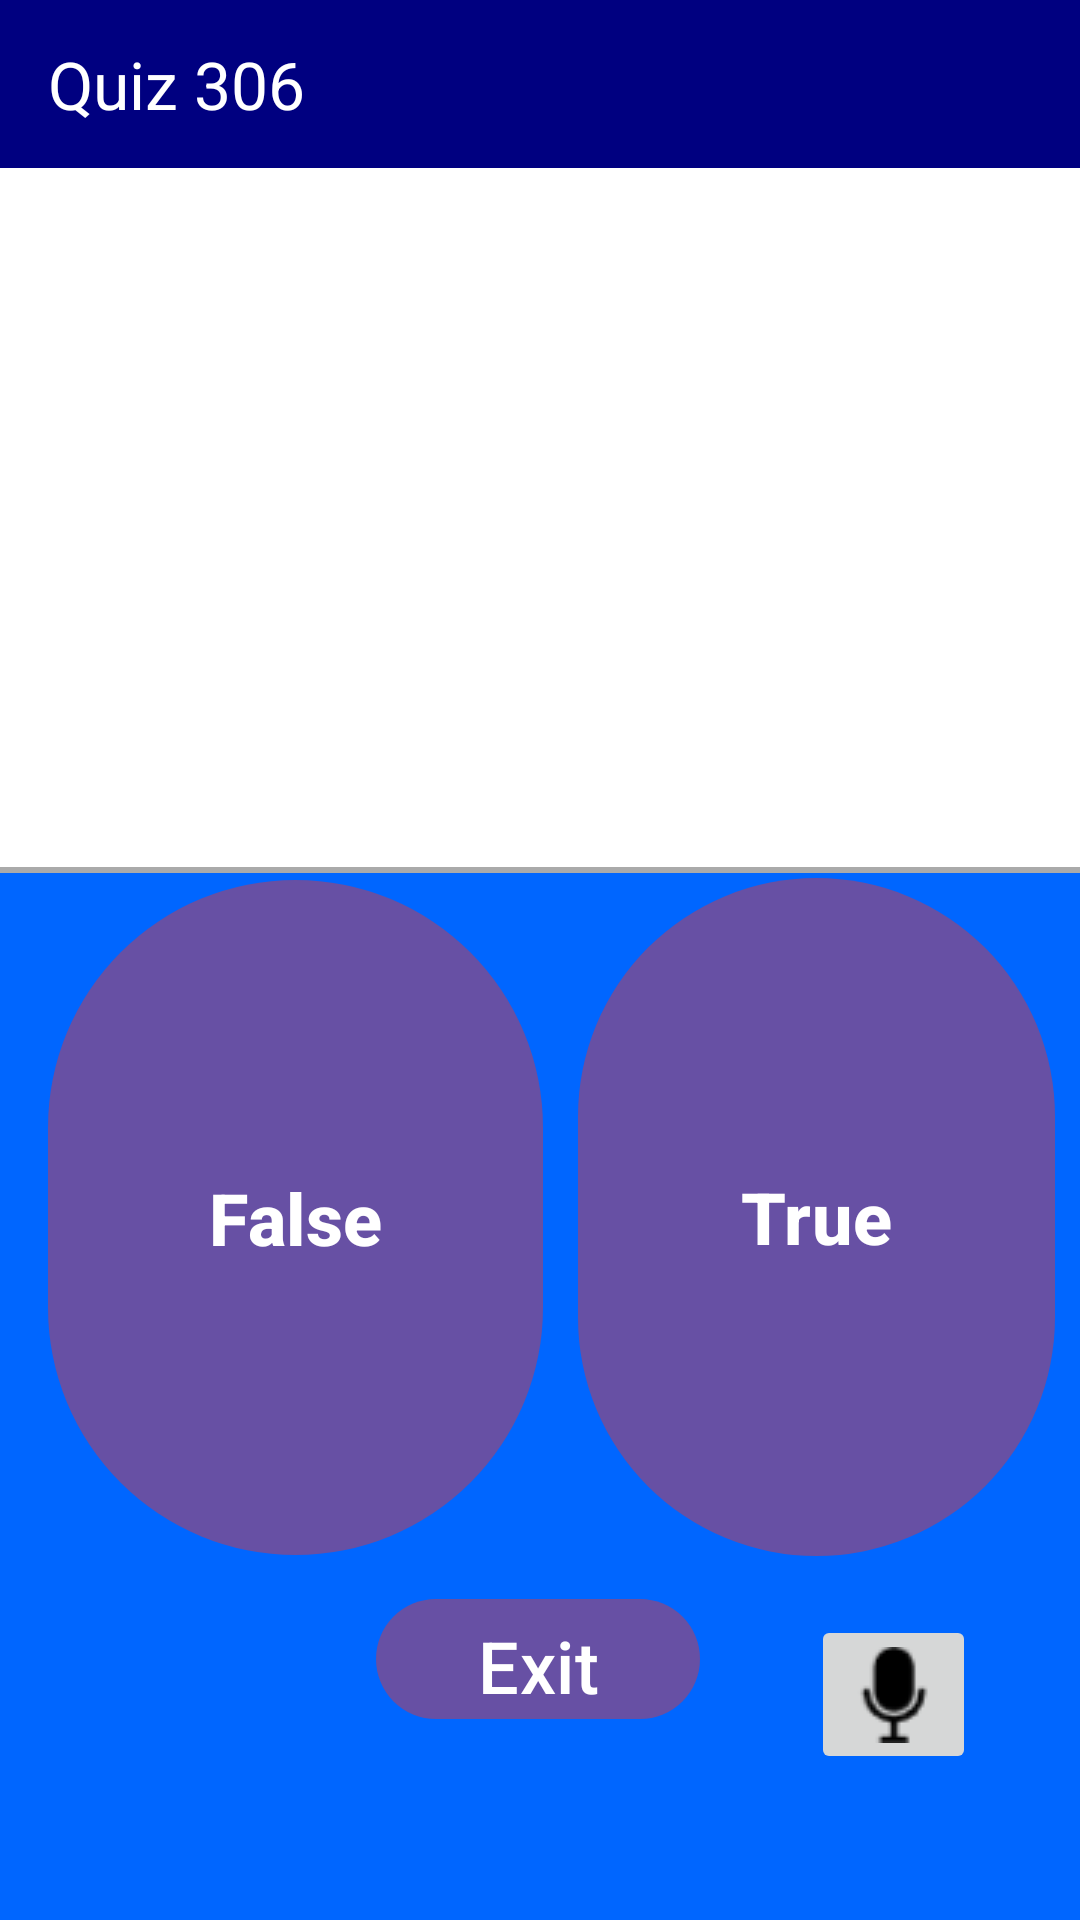

Icons on this 1080x1920 Android screen, each with the point to tap as (x=x, y=y):
Speak: (x=893, y=1694)
